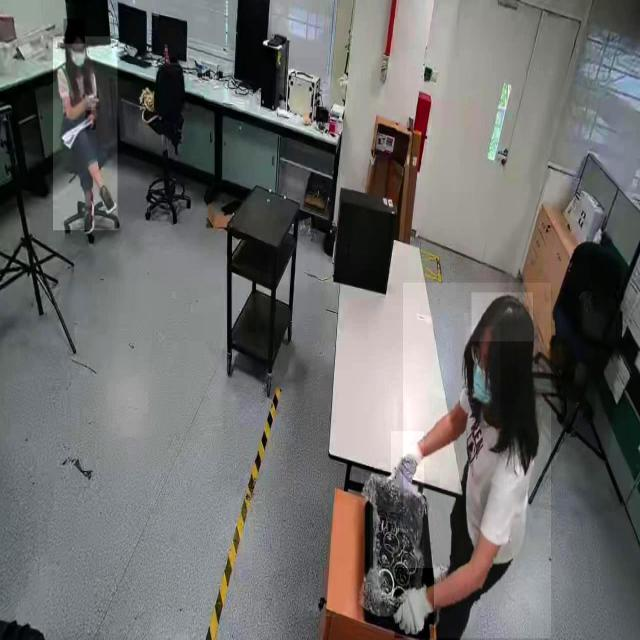face_mask: (466, 326, 500, 421), (70, 44, 88, 68)
hand_glove: (394, 568, 434, 639), (391, 431, 425, 496)
hand_noglove: (84, 91, 100, 109), (86, 110, 96, 131)
head_nohelmet: (472, 292, 534, 342), (64, 18, 86, 44)
person: (403, 283, 551, 639), (53, 37, 118, 231)
shoes: (96, 173, 120, 217), (76, 196, 98, 238)
